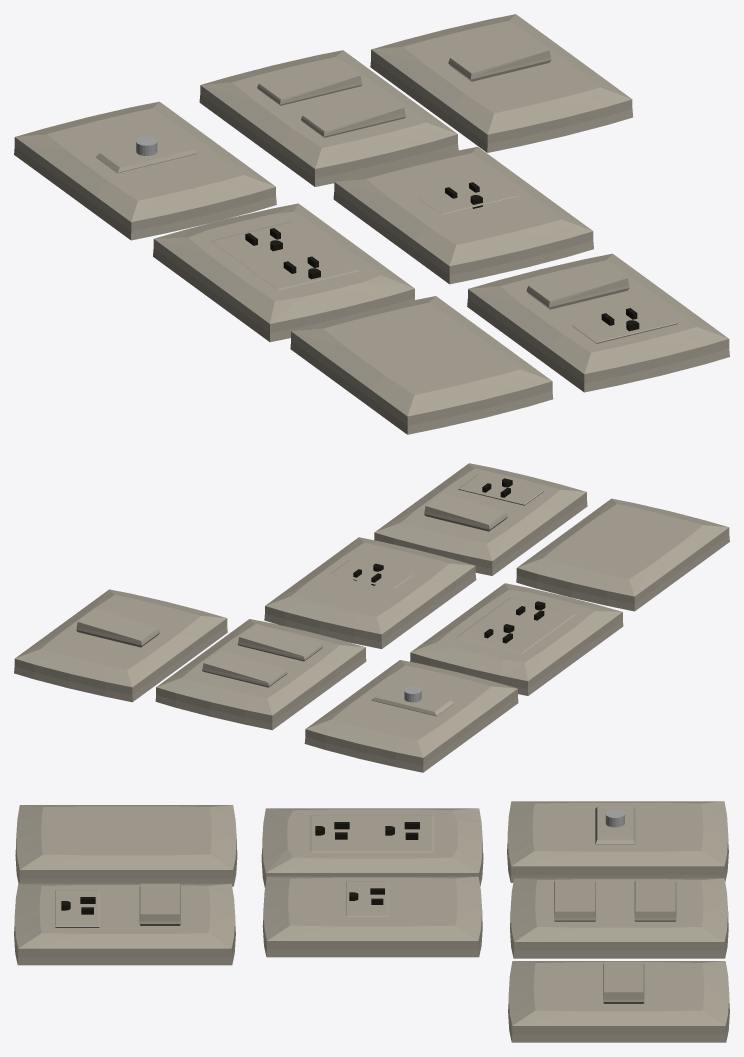
File: Conectores.fbx
3 renders of one model, top to bottom at view 1: azimuth 30°, elevation 25°; view 2: azimuth 150°, elevation 25°; view 3: azimuth 270°, elevation 25°, orthographic. The views are drawn at different scales.
Parts seen in each view (by area): view 1: pCube16, pCube1, pCube33, pCube36, pCube21, pCube27, pCube15; view 2: pCube1, pCube36, pCube16, pCube21, pCube27, pCube15, pCube33; view 3: pCube33, pCube36, pCube21, pCube27, pCube1, pCube16, pCube15.
Boxes of the visible parts, x1,y1,x2,y2 form: pCube16: (14,101,276,240); pCube1: (290,296,553,434); pCube33: (467,253,729,392); pCube36: (370,14,632,152); pCube21: (333,146,593,284); pCube27: (199,50,458,186); pCube15: (153,203,414,342); pCube1: (516,498,729,611); pCube36: (14,589,227,702); pCube16: (304,660,518,772); pCube21: (264,537,476,648); pCube27: (155,619,366,730); pCube15: (410,583,623,695); pCube33: (374,463,587,575); pCube33: (14,883,235,965); pCube36: (508,961,729,1042); pCube21: (262,876,482,957); pCube27: (510,878,728,958); pCube1: (15,805,237,886); pCube16: (507,801,728,882); pCube15: (261,808,483,887).
Size of the model in its own units: 0.6976 by 0.0634 by 0.9392.
